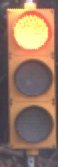Red: (1, 1, 57, 158)
